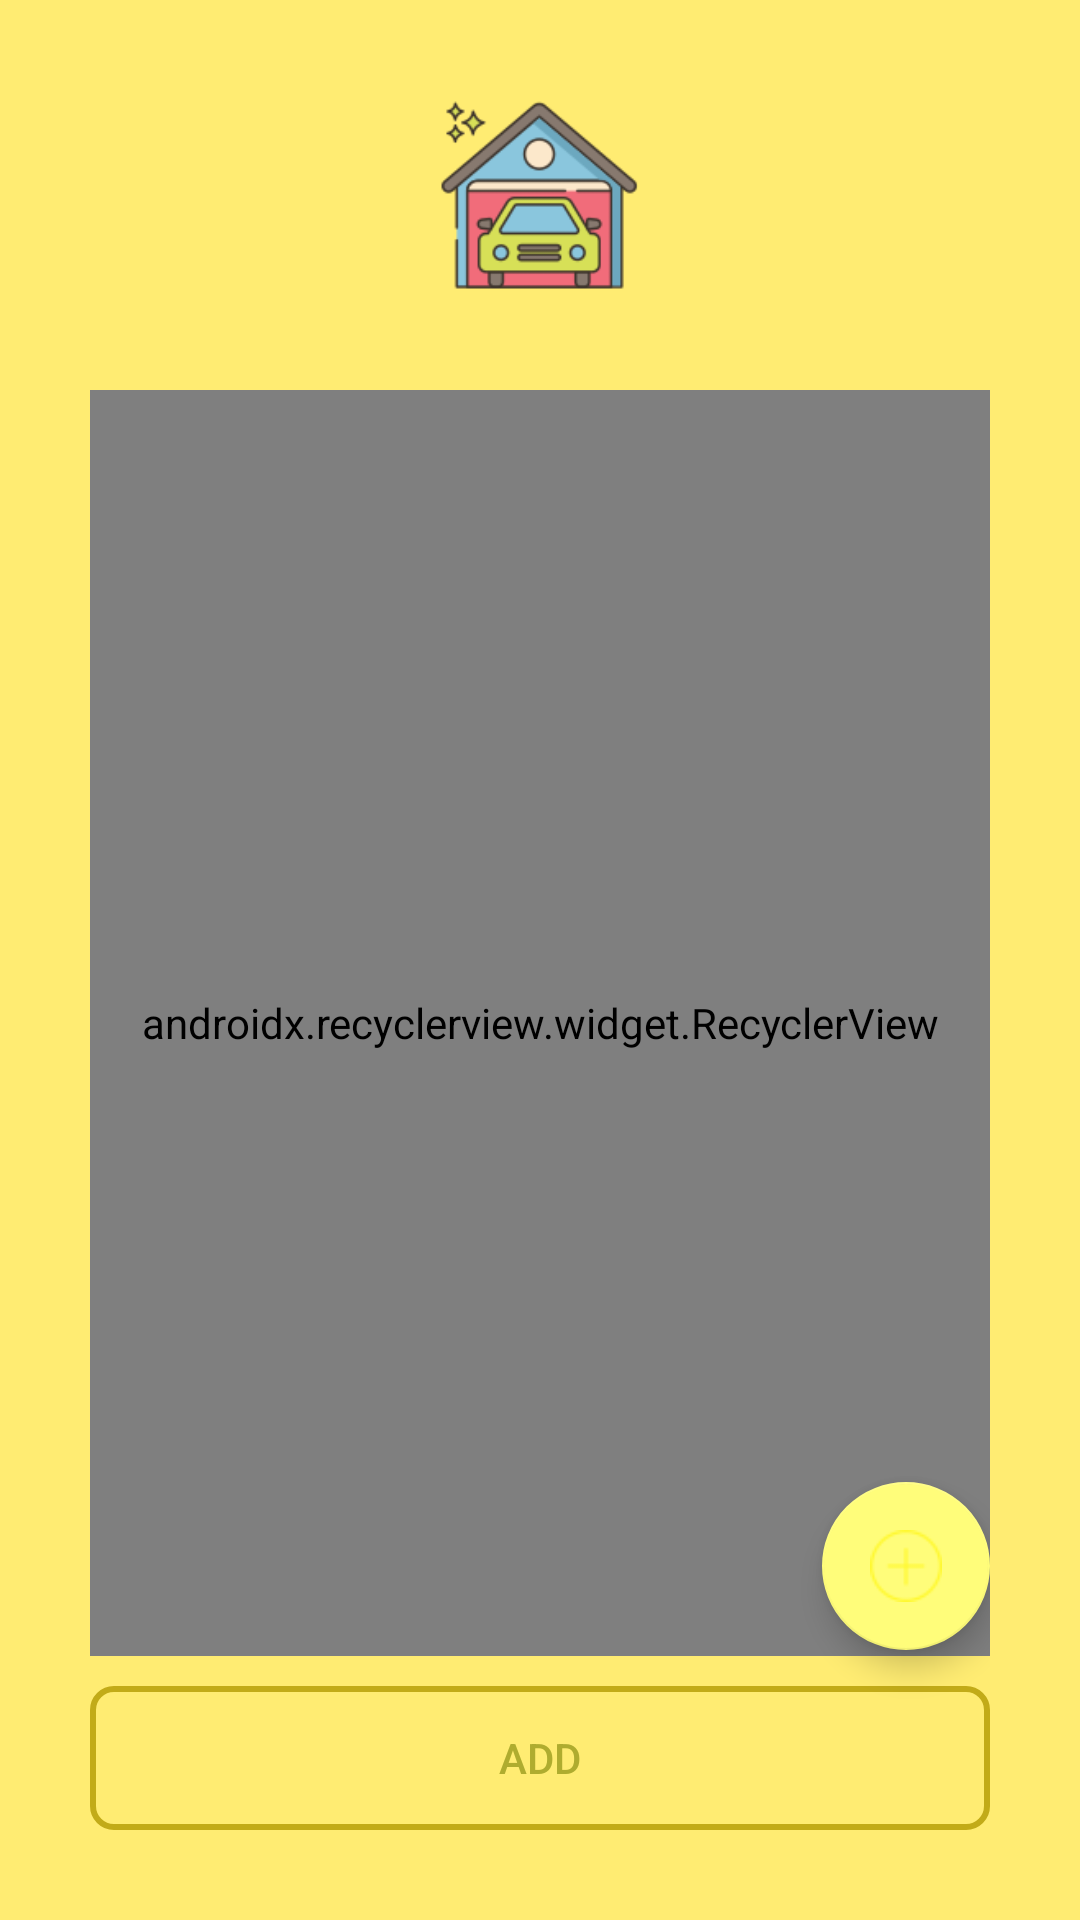

Icon bounding boxes for this 1080px×1920px phone screenshot, format (x1, y1, x2, y2):
garage: (441, 101, 637, 289)
plus: (822, 1482, 990, 1650)
